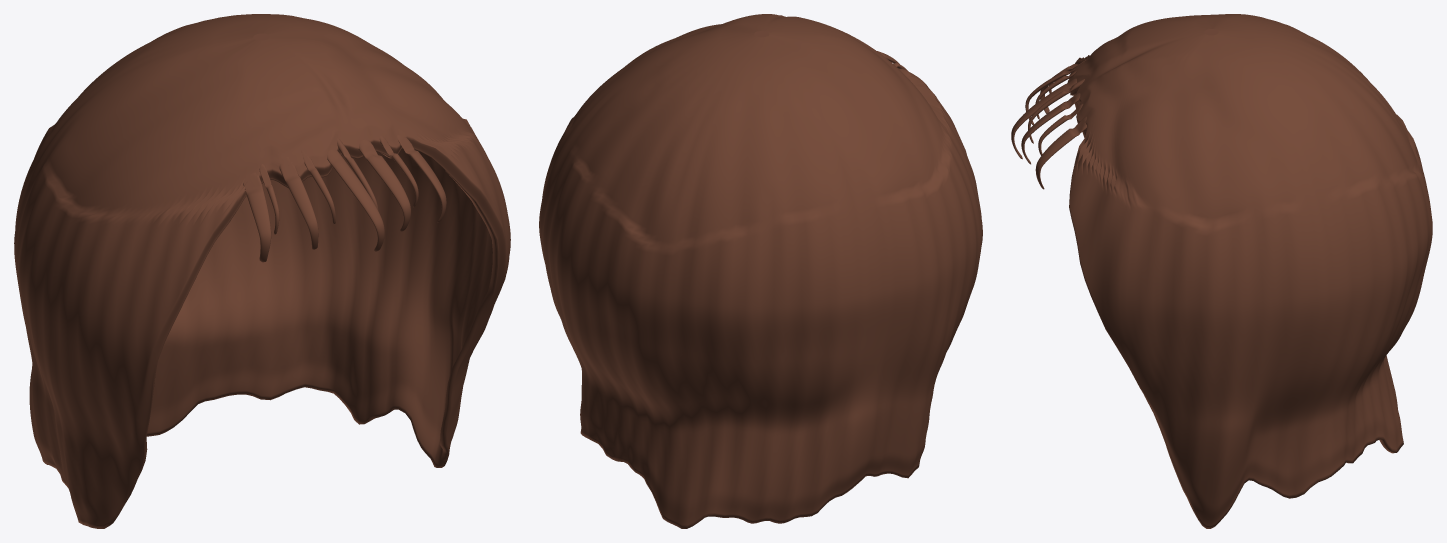
The model's file is side-sweep-headband.glb.
3 renders of one model, left to right at view 1: azimuth 30°, elevation 25°; view 2: azimuth 150°, elevation 25°; view 3: azimuth 270°, elevation 25°, orthographic. The views are drawn at different scales.
Parts seen in each view (by area): view 1: Hair / layered lob, Fringe / arched wisp 05, Fringe / arched wisp 01, Fringe / arched wisp 07, Fringe / arched wisp 03, Fringe / arched wisp 09; view 2: Hair / layered lob; view 3: Hair / layered lob, Fringe / arched wisp 09, Fringe / arched wisp 05, Fringe / arched wisp 07.
Part boxes in pixels (x1,y1,x2,y2): Hair / layered lob: [14, 14, 510, 528]; Fringe / arched wisp 05: [327, 149, 384, 251]; Fringe / arched wisp 01: [243, 172, 271, 262]; Fringe / arched wisp 07: [358, 139, 410, 231]; Fringe / arched wisp 03: [279, 156, 318, 249]; Fringe / arched wisp 09: [397, 135, 446, 222]; Hair / layered lob: [539, 14, 982, 528]; Hair / layered lob: [1067, 14, 1432, 528]; Fringe / arched wisp 09: [1035, 116, 1086, 189]; Fringe / arched wisp 05: [1011, 78, 1076, 159]; Fringe / arched wisp 07: [1021, 93, 1080, 164].
Bounding box in the file's own units: 0.8388 × 0.8786 × 0.7979.
